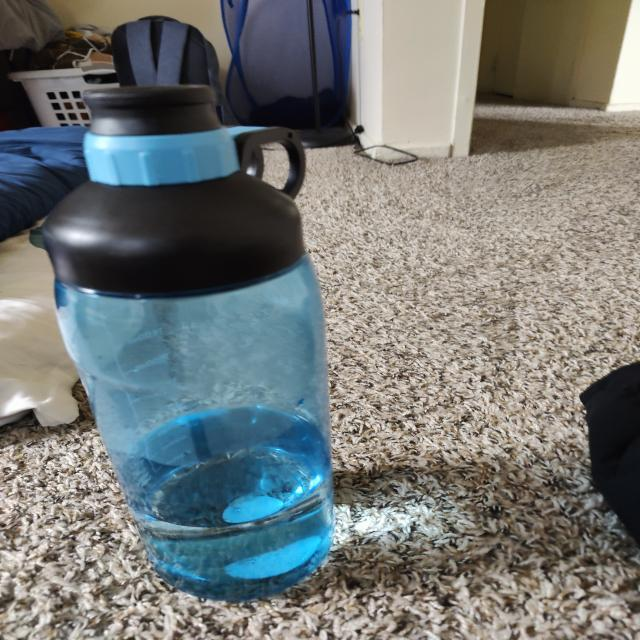bottle: (34, 91, 362, 600)
